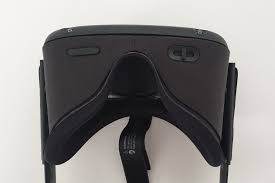oculus: (37, 26, 240, 167)
